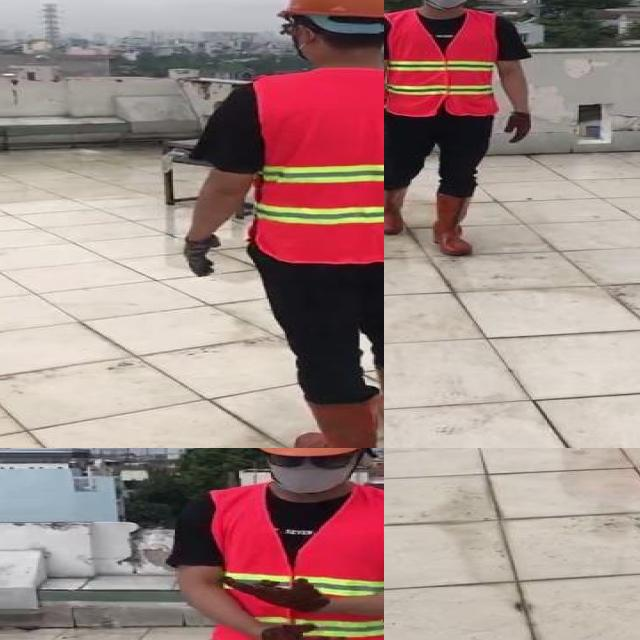boots: (292, 397, 384, 448), (431, 194, 476, 256), (384, 184, 408, 236)
face_mask: (264, 448, 358, 495), (417, 0, 477, 8)
glasses: (263, 448, 357, 471)
hand_glove: (236, 578, 332, 615), (185, 236, 221, 277), (258, 623, 343, 640), (506, 114, 531, 146)
head_helmet: (269, 0, 384, 23)
person: (171, 0, 384, 448), (384, 0, 541, 262), (182, 448, 384, 640)
vest: (205, 484, 384, 640), (249, 67, 384, 263), (384, 9, 499, 116)
